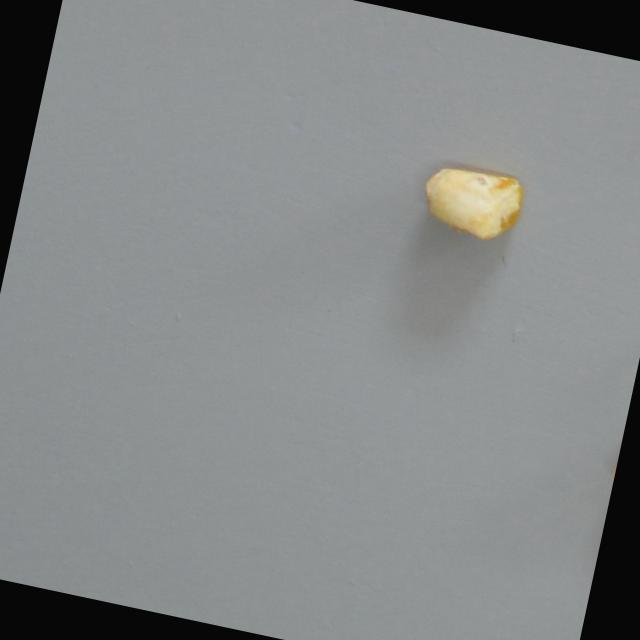punto_negro: (412, 154, 537, 250)
